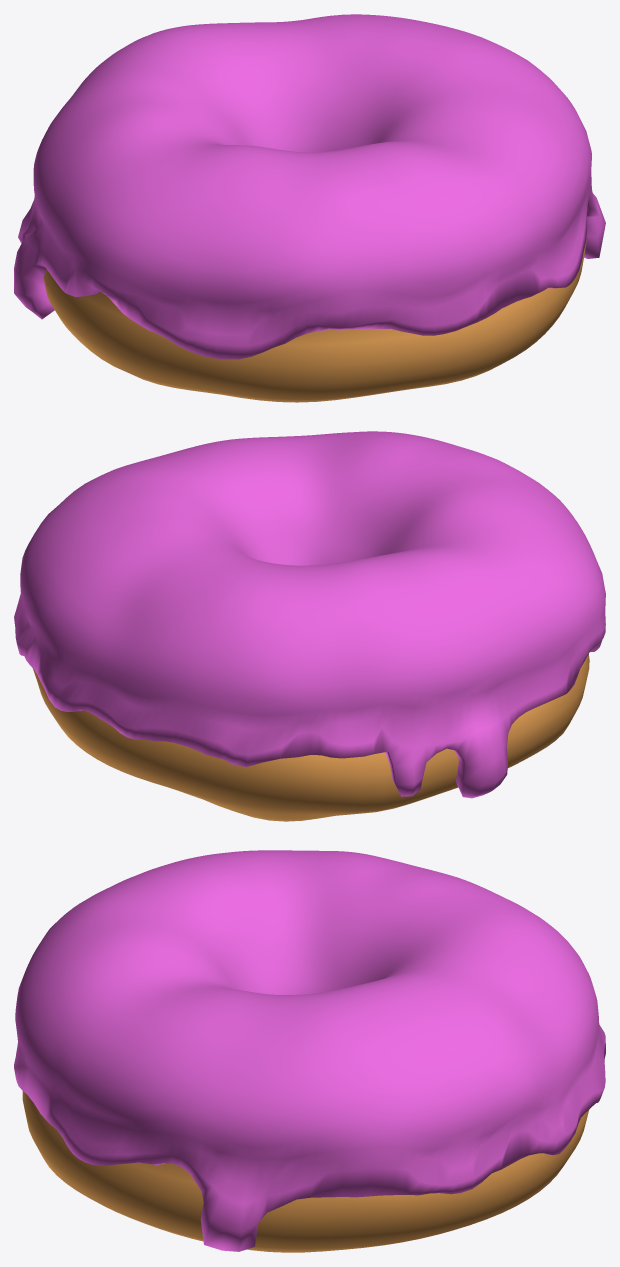
The model's file is donut.glb.
The picture shows the model from 3 angles, top to bottom: view 1: azimuth 30°, elevation 25°; view 2: azimuth 150°, elevation 25°; view 3: azimuth 270°, elevation 25°; orthographic projection. The views are drawn at different scales.
Parts seen in each view (by area): view 1: Icing, Donut; view 2: Icing, Donut; view 3: Icing, Donut.
Part boxes in pixels (<box>): Icing: <box>14,14,605,359</box>; Donut: <box>43,240,586,402</box>; Icing: <box>14,431,605,798</box>; Donut: <box>33,654,589,821</box>; Icing: <box>14,850,605,1251</box>; Donut: <box>22,1091,588,1252</box>.
Size of what is drawn, in the model's own units: 0.0992 by 0.0454 by 0.0968.
